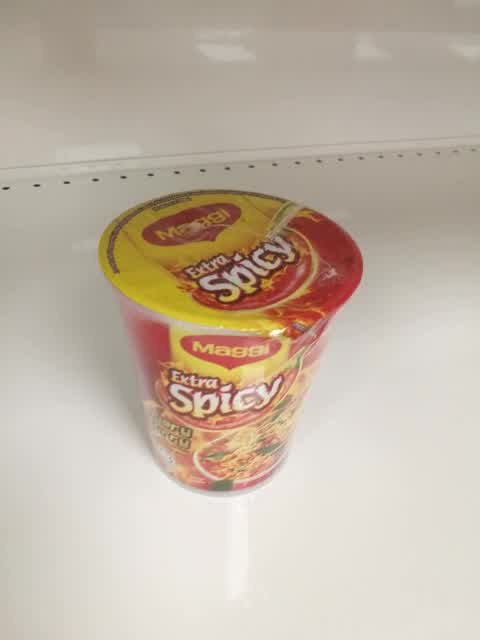maggi: (97, 188, 364, 496)
